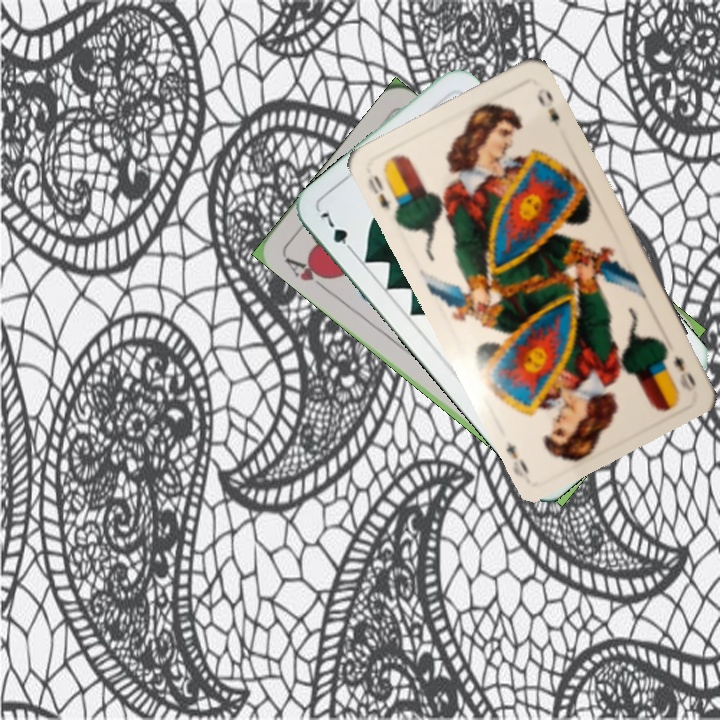EO: (364, 164, 404, 221), (669, 352, 699, 394)
G7: (313, 208, 358, 257)
HA: (280, 253, 334, 294)
